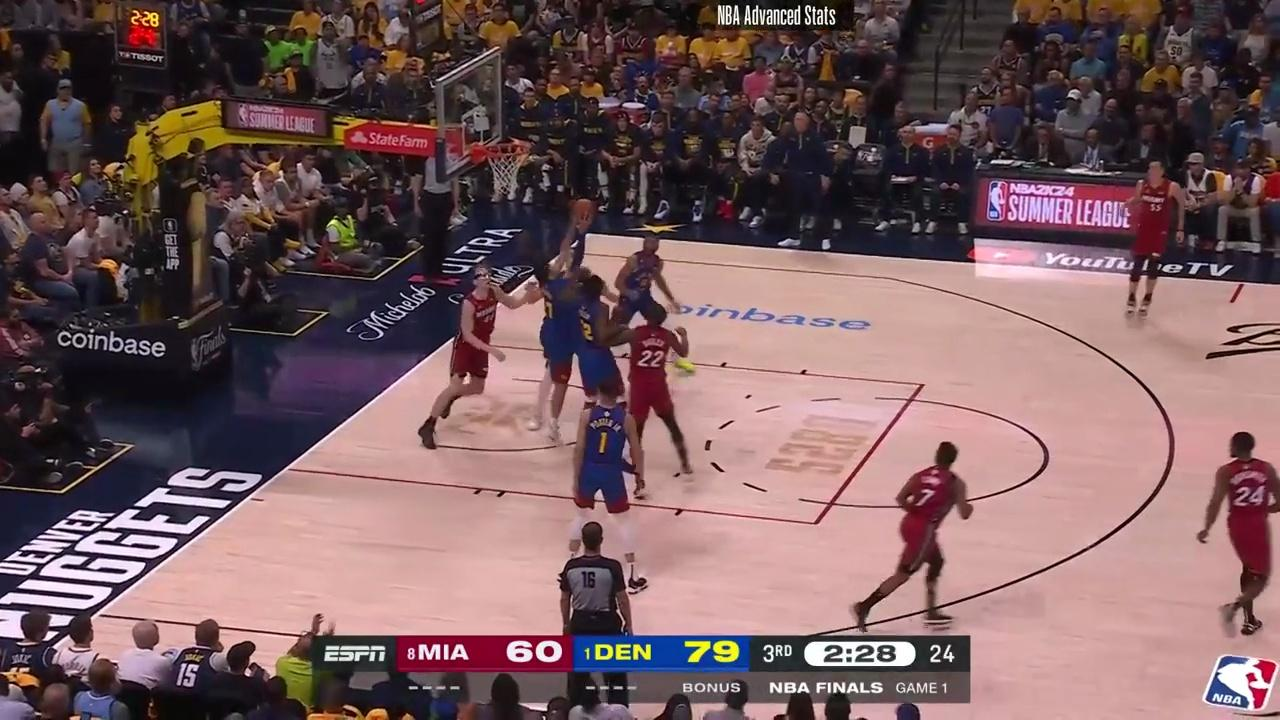Backboard: (443, 54, 500, 185)
Ball: (573, 196, 594, 215)
Basket: (483, 142, 537, 195)
Person: (846, 440, 978, 637), (1179, 428, 1280, 638), (415, 263, 525, 441), (1102, 159, 1187, 326), (567, 378, 639, 532), (619, 302, 678, 480), (531, 246, 575, 409), (569, 268, 619, 397), (604, 227, 667, 309)
Referee: (558, 525, 643, 638)
Shot Clock: (115, 8, 174, 94)
